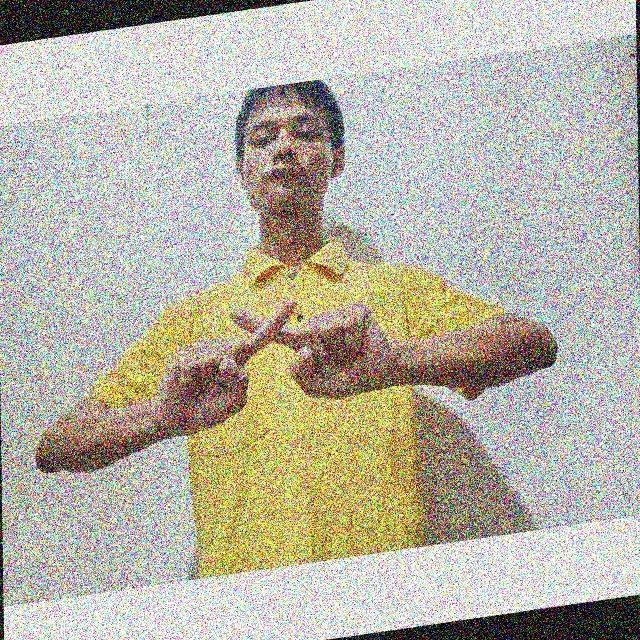X: (172, 296, 380, 412)
